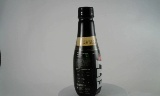appyfizz: (66, 6, 96, 95)
